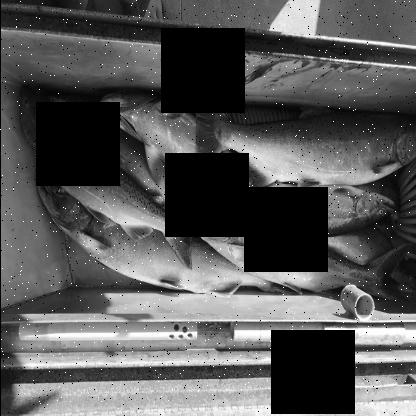fish: (15, 81, 198, 270), (175, 186, 403, 309), (192, 94, 415, 191), (212, 165, 398, 242)
